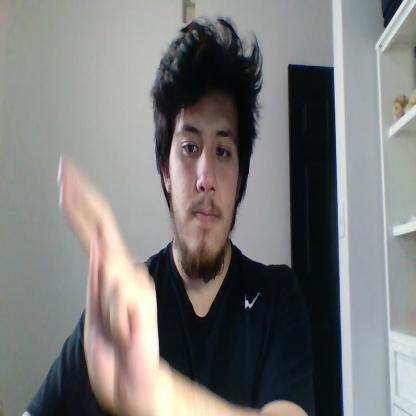R: (58, 153, 160, 416)
